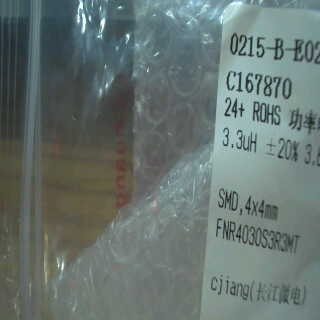3.3uH: (218, 122, 262, 165)
